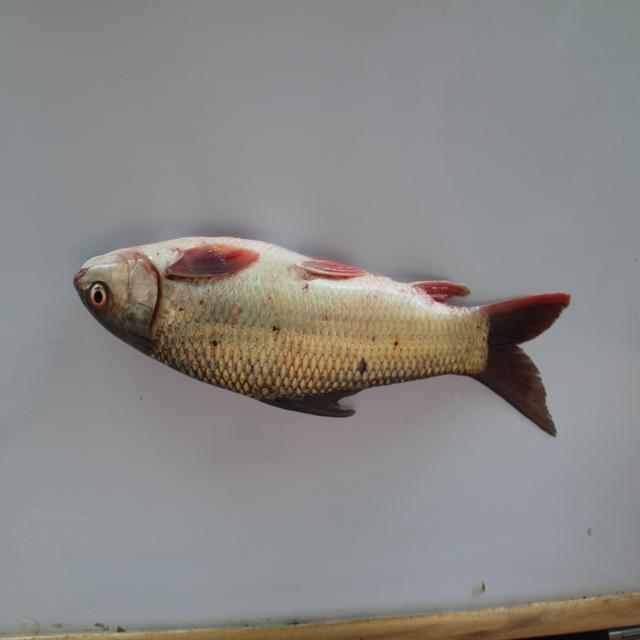Mori: (69, 234, 593, 433)
